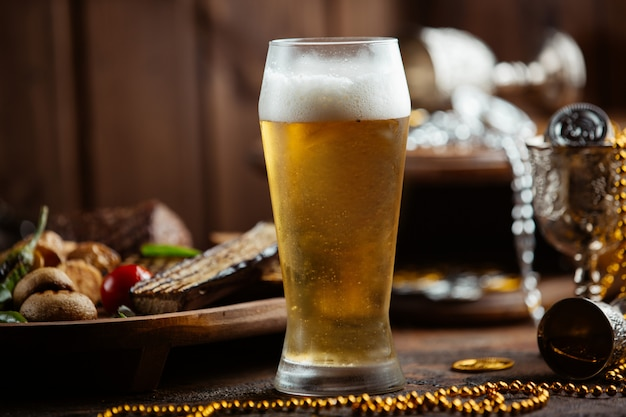alcohol: (256, 39, 405, 397)
